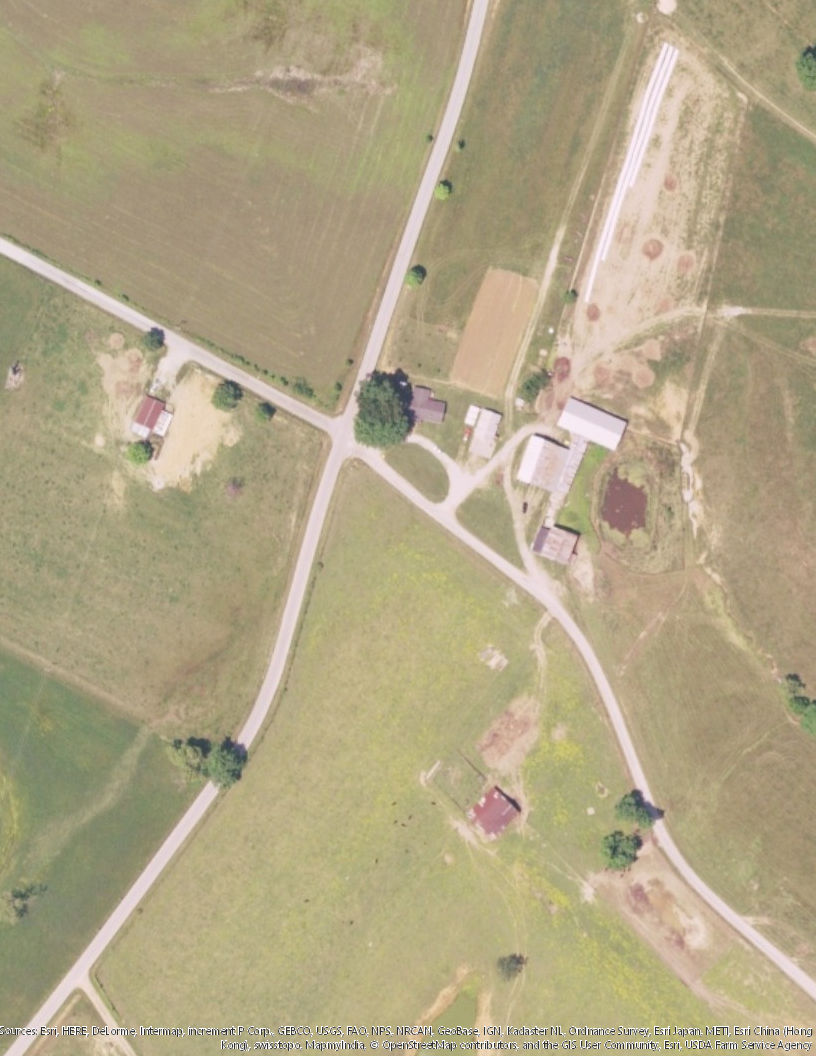cafo: (514, 393, 630, 566)
